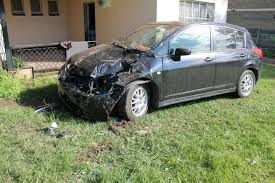Broken-glass: (88, 74, 119, 94)
Smashed: (57, 49, 151, 116)
